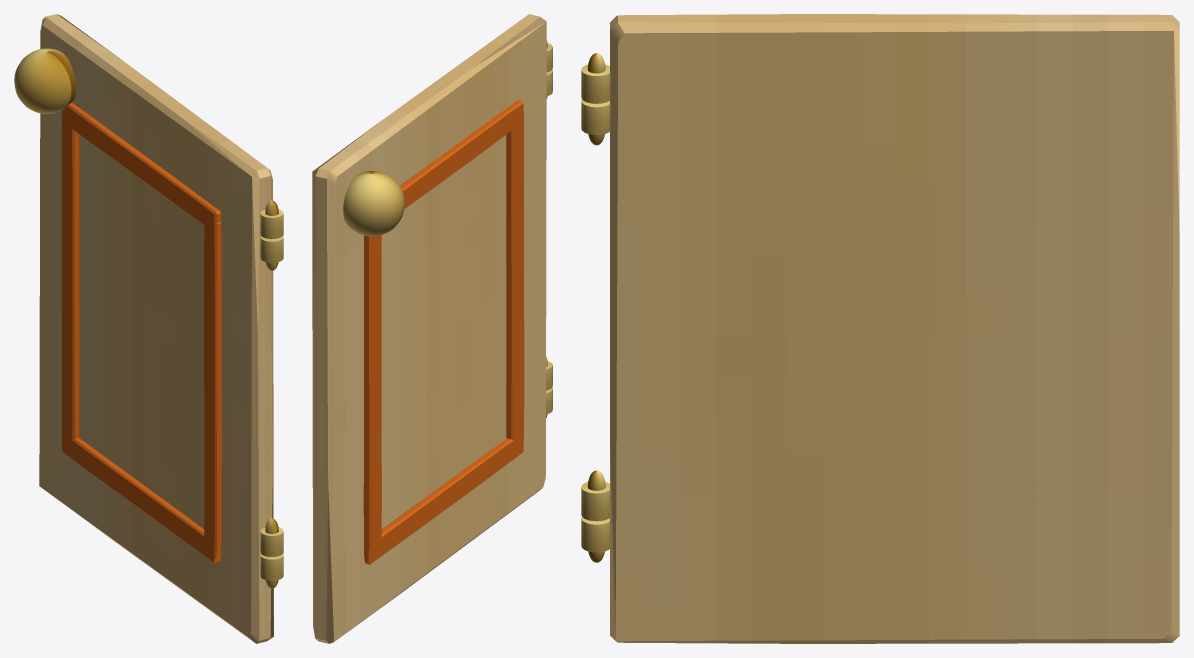
File: puertagab1.obj
3 renders of one model, left to right at view 1: azimuth 30°, elevation 25°; view 2: azimuth 150°, elevation 25°; view 3: azimuth 270°, elevation 25°, orthographic. The views are drawn at different scales.
Visible parts, largest first — view 1: cuarto:cuarto:polySurface11582; view 2: cuarto:cuarto:polySurface11582; view 3: cuarto:cuarto:polySurface11582.
Boxes of the visible parts, x1=… form: cuarto:cuarto:polySurface11582: x1=14, y1=14, x2=283, y2=643; cuarto:cuarto:polySurface11582: x1=312, y1=14, x2=552, y2=643; cuarto:cuarto:polySurface11582: x1=581, y1=14, x2=1179, y2=643.
Size of the model in its own units: 0.1729 by 1.17 by 1.02.
Materials: 3 (3 with a texture image).
